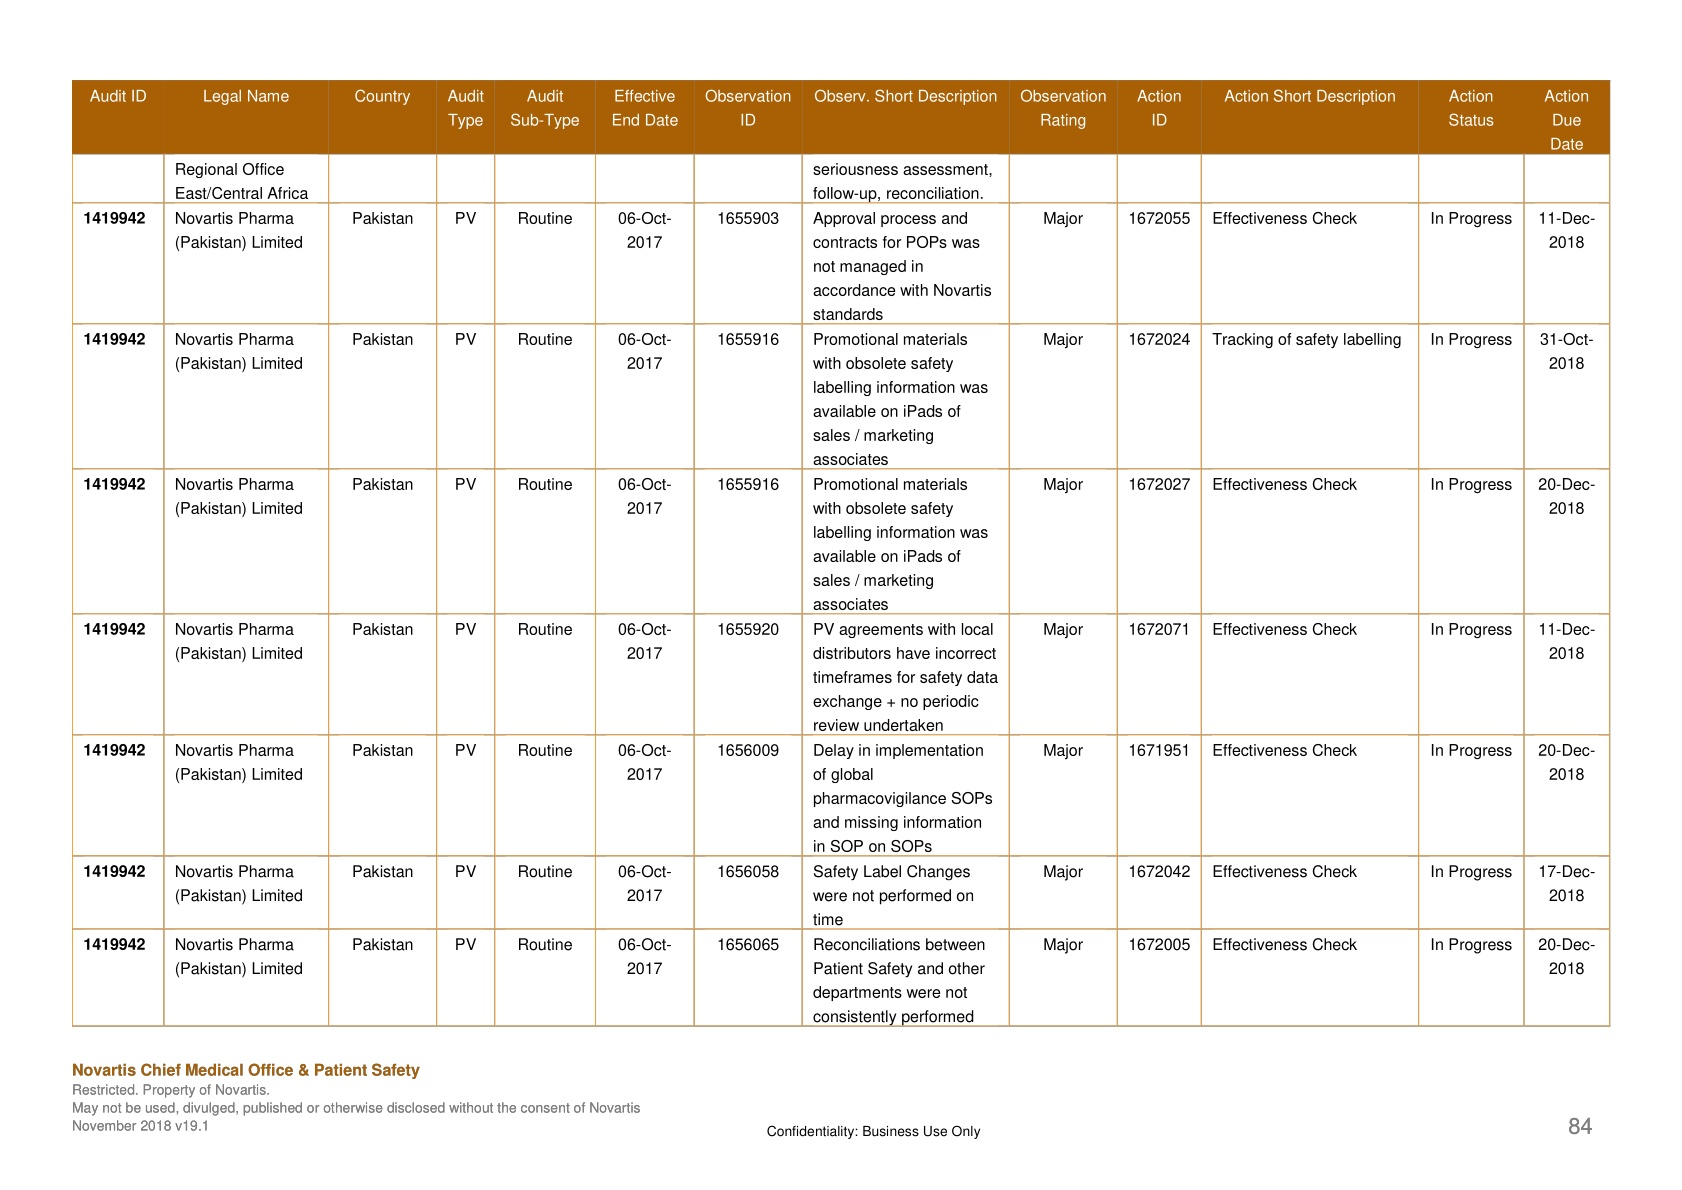full_lined: (71, 79, 1611, 1028)
